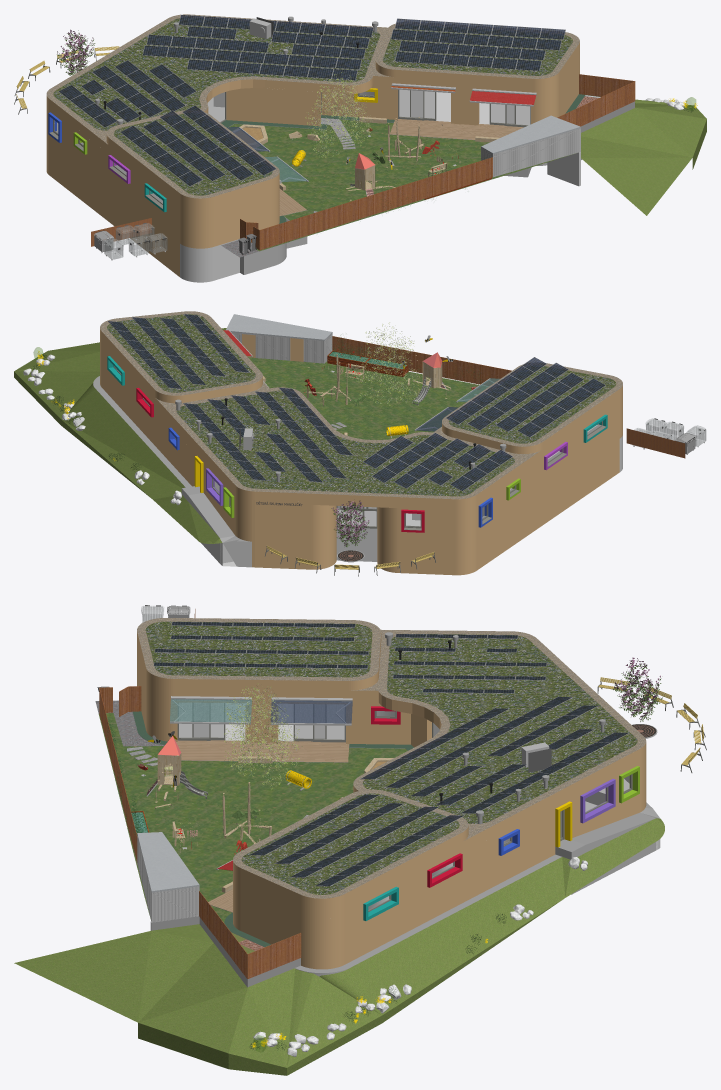
File: hustopece.glb
The picture shows the model from 3 angles, top to bottom: view 1: azimuth 30°, elevation 25°; view 2: azimuth 150°, elevation 25°; view 3: azimuth 270°, elevation 25°; orthographic projection. The views are drawn at different scales.
Visible parts, largest first — view 1: hustopece_architecture; view 2: hustopece_architecture; view 3: hustopece_architecture.
Part boxes in pixels (x1,y1,x2,y2): hustopece_architecture: [14, 14, 706, 282]; hustopece_architecture: [14, 311, 706, 576]; hustopece_architecture: [14, 605, 706, 1075].
Bounding box in the file's own units: 53.34 × 10.47 × 39.83.
Materials: 112 (43 with a texture image).
